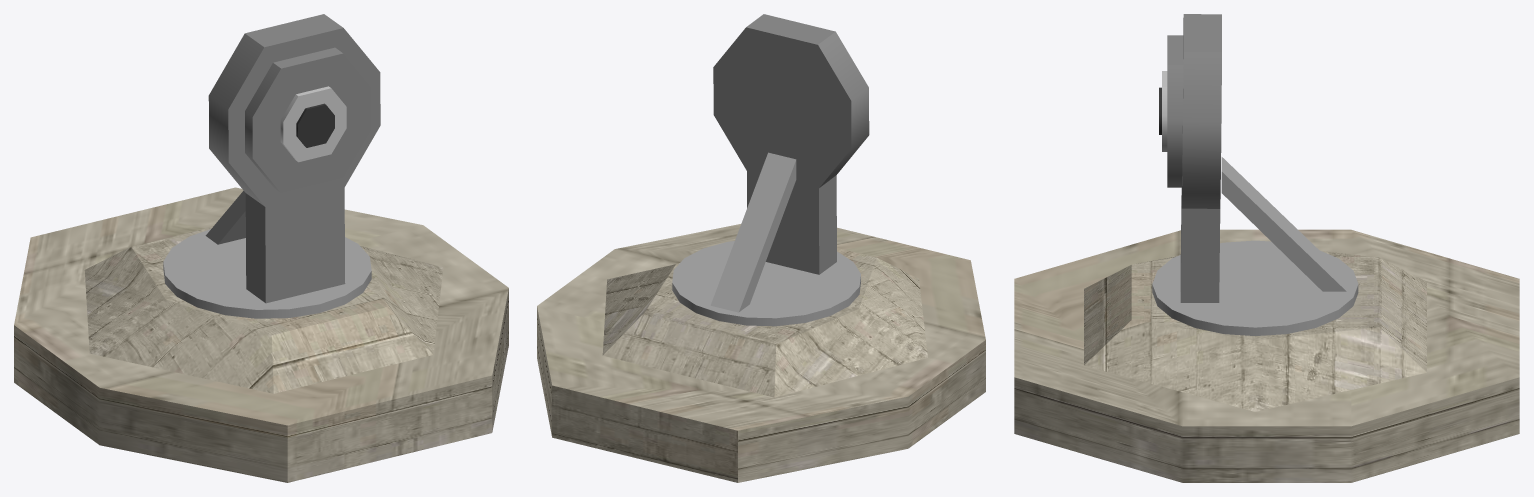
Rendered from StunTurret.fbx.
3 renders of one model, left to right at view 1: azimuth 30°, elevation 25°; view 2: azimuth 150°, elevation 25°; view 3: azimuth 270°, elevation 25°, orthographic. The views are drawn at different scales.
Parts seen in each view (by area): view 1: Base1, pCube12, pCylinder1; view 2: Base1, pCube12, pCylinder1; view 3: Base1, pCube12, pCylinder1.
Boxes of the visible parts, bbox=[...] form: Base1: bbox=[14, 187, 508, 482]; pCube12: bbox=[205, 14, 380, 303]; pCylinder1: bbox=[163, 229, 371, 318]; Base1: bbox=[537, 224, 985, 482]; pCube12: bbox=[710, 14, 869, 312]; pCylinder1: bbox=[672, 241, 860, 326]; Base1: bbox=[1014, 229, 1519, 482]; pCube12: bbox=[1159, 14, 1346, 302]; pCylinder1: bbox=[1152, 240, 1358, 335].
Bounding box in the file's own units: 8.03 × 6.7 × 8.73.
